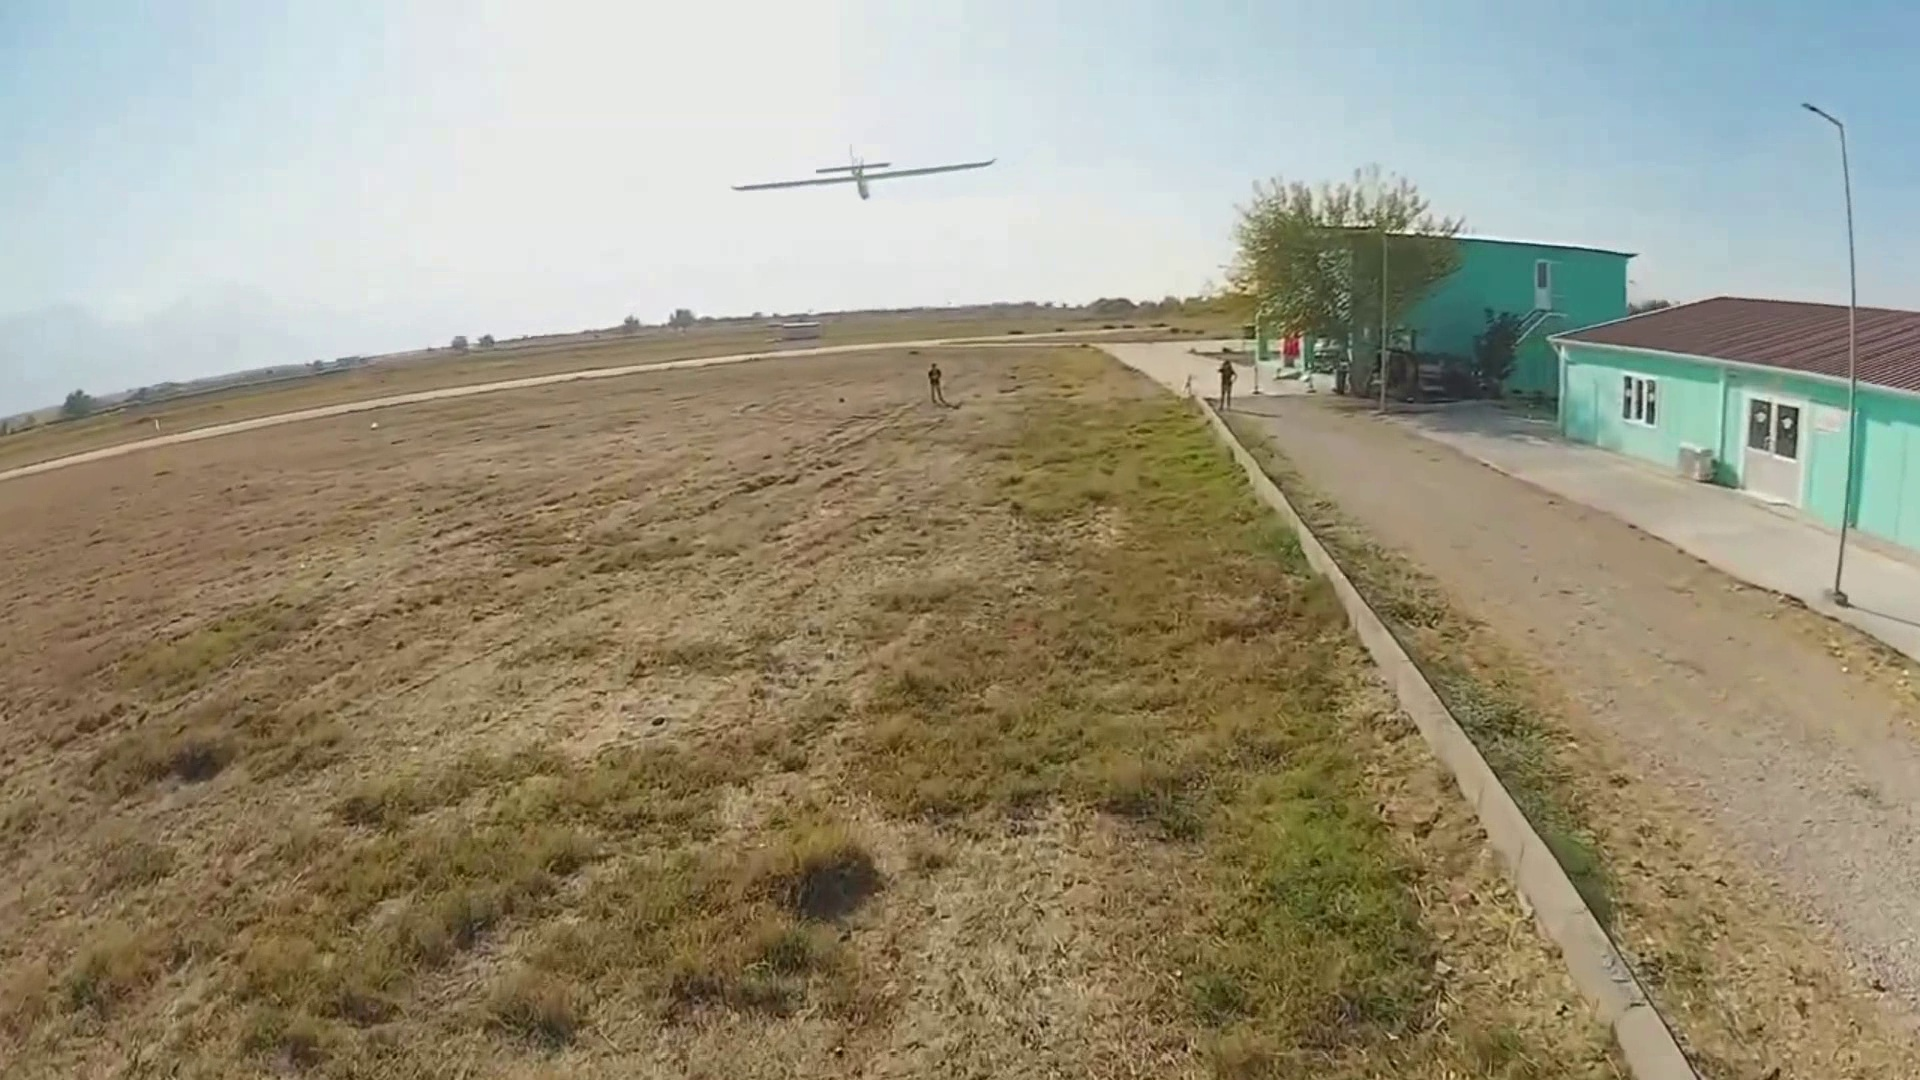airplane: (731, 148, 997, 199)
